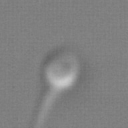normal: (27, 87, 59, 128)
